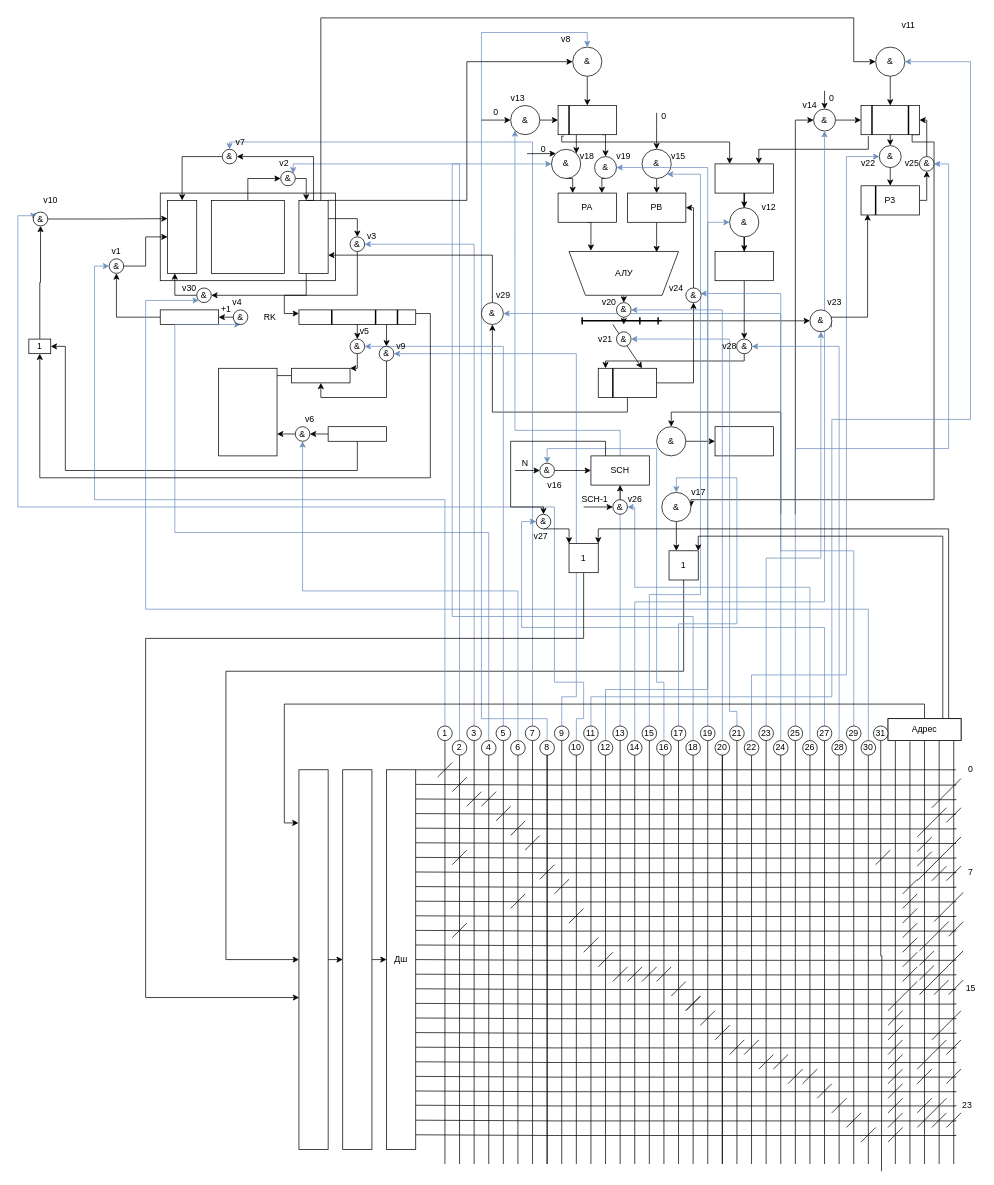
Some shapes in this 994 by 1185 pixel diagram are drawn without their labels. The box of each missing label's shape, as (x1, y1, x2, y2) in pixels:
KOP OP1 B2 D2: (298, 309, 416, 324)
RAP: (167, 200, 197, 273)
RARP: (291, 368, 350, 383)
RCH: (298, 200, 328, 273)
RCHR: (327, 426, 387, 441)
RON: (218, 368, 277, 456)
SK: (160, 309, 219, 324)
XOR: (714, 163, 773, 193)
ОП: (211, 200, 284, 273)
Р1: (557, 105, 616, 135)
Р2: (860, 105, 919, 135)
РАМК: (342, 769, 372, 1149)
РС: (598, 368, 657, 397)
РФА: (298, 769, 328, 1149)
СчЦ: (714, 426, 773, 456)
ТZ: (714, 251, 773, 281)
